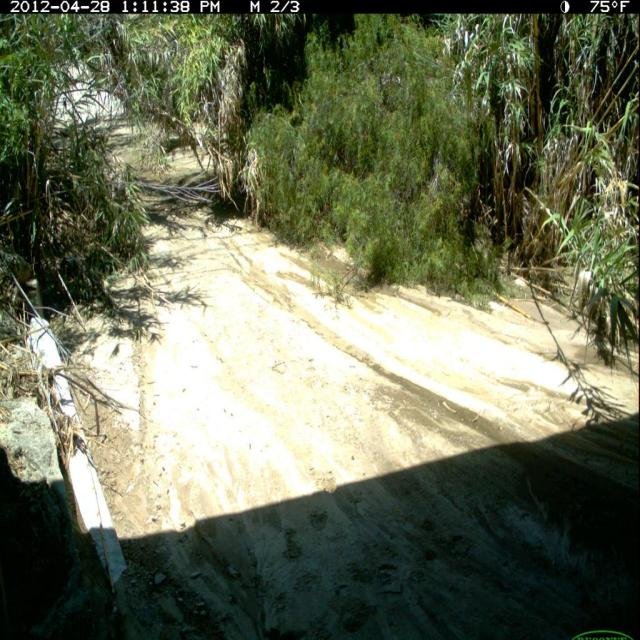bird: (261, 622, 311, 640)
